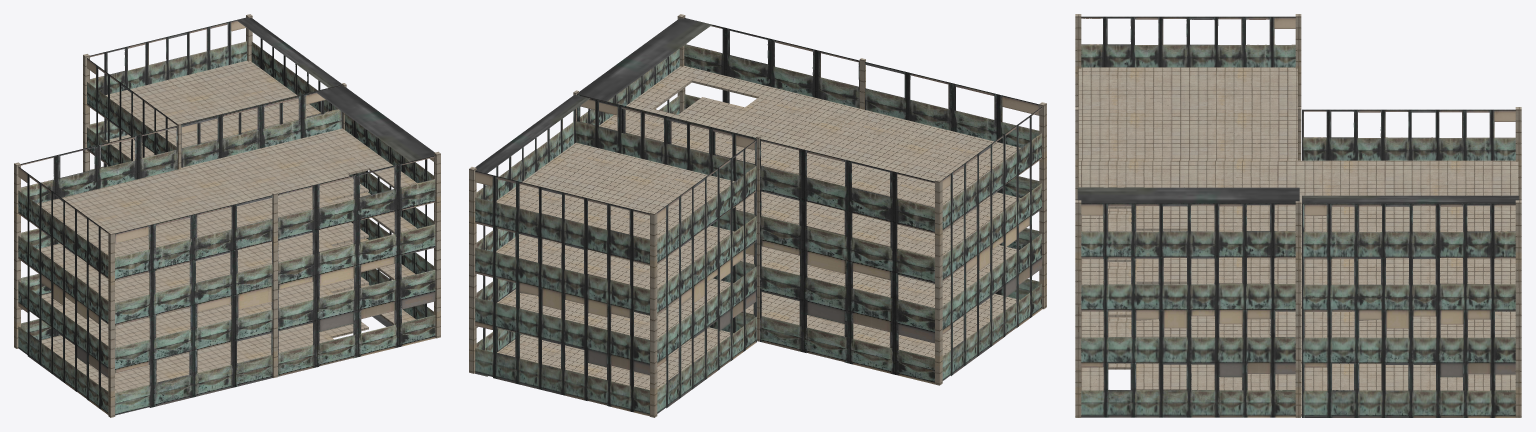
File: BagSS09mid_100.fbx
3 views of the same model, side by side, from view 1: azimuth 30°, elevation 25°; view 2: azimuth 150°, elevation 25°; view 3: azimuth 270°, elevation 25° (orthographic). The views are drawn at different scales.
Parts seen in each view (by area): view 1: midBox100, midCrete100; view 2: midBox100, midCrete100; view 3: midBox100, midCrete100.
Part boxes in pixels (x1,y1,x2,y2): midBox100: [18, 17, 435, 416]; midCrete100: [14, 14, 440, 417]; midBox100: [475, 17, 1042, 416]; midCrete100: [469, 14, 1046, 417]; midBox100: [1077, 16, 1519, 417]; midCrete100: [1075, 14, 1521, 417].
Bounding box in the file's own units: 40.92 × 21.85 × 40.92.
